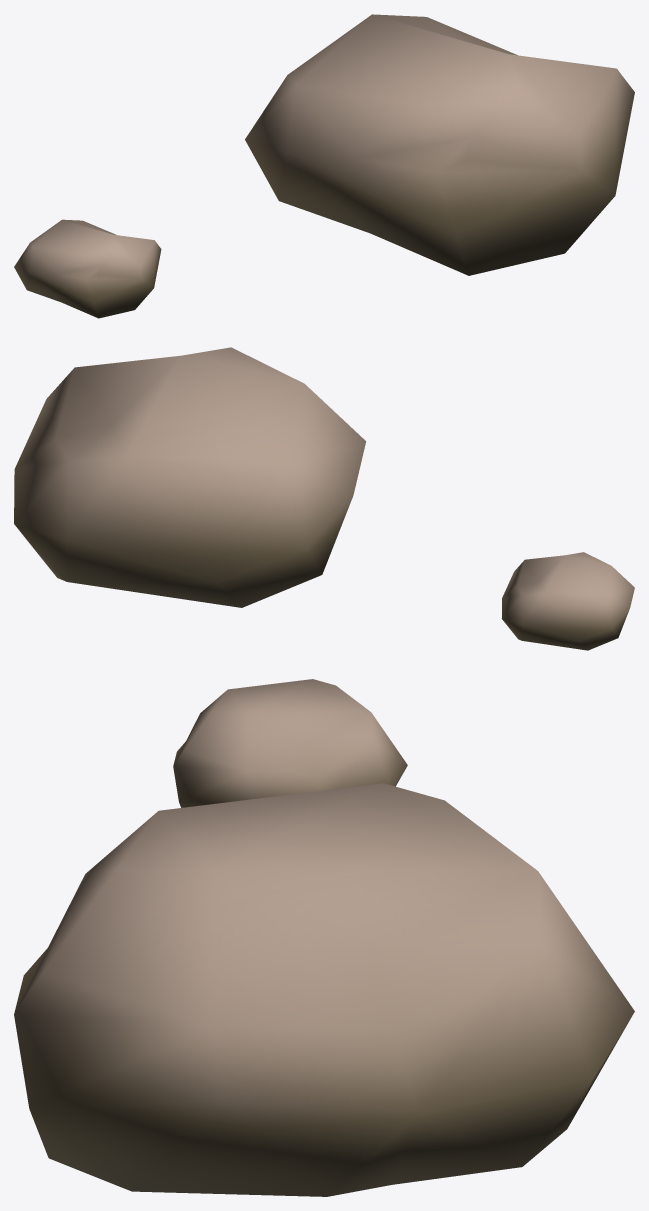
File: Stone1.fbx
3 renders of one model, top to bottom at view 1: azimuth 30°, elevation 25°; view 2: azimuth 150°, elevation 25°; view 3: azimuth 270°, elevation 25°, orthographic. The views are drawn at different scales.
Visible parts, largest first — view 1: Stone1.001; view 2: Stone1.001; view 3: Stone1.001.
Part boxes in pixels (left/top/right/bottom): Stone1.001: left=14, top=14, right=634, bottom=318; Stone1.001: left=14, top=347, right=634, bottom=650; Stone1.001: left=14, top=679, right=634, bottom=1196.
Bounding box in the file's own units: 104 × 31.62 × 55.81.
